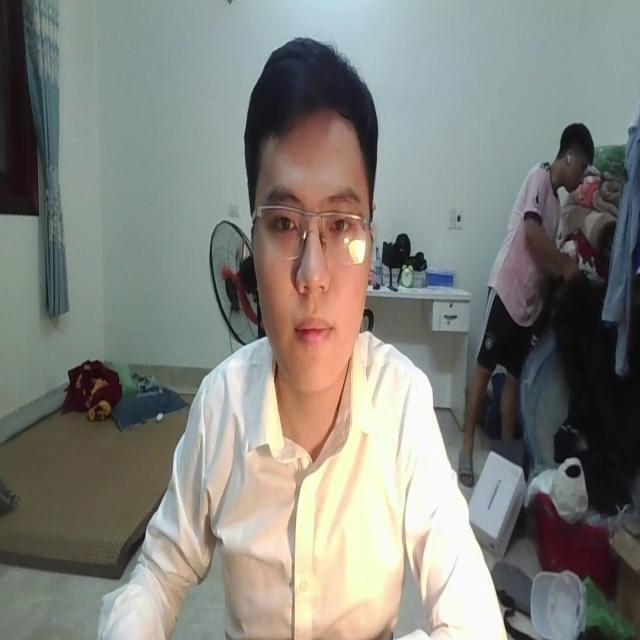extra_person: (455, 110, 596, 475)
student: (98, 40, 502, 640)
